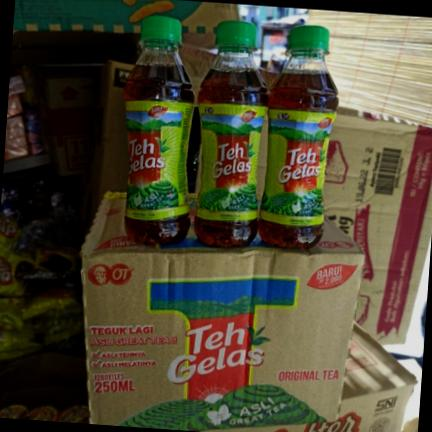container: (258, 25, 337, 248), (193, 20, 267, 246), (123, 15, 193, 244)
fluid: (258, 67, 336, 248), (193, 68, 266, 246), (123, 62, 193, 244)
fluid-surface: (211, 64, 258, 75), (137, 59, 180, 67), (283, 68, 325, 74)
